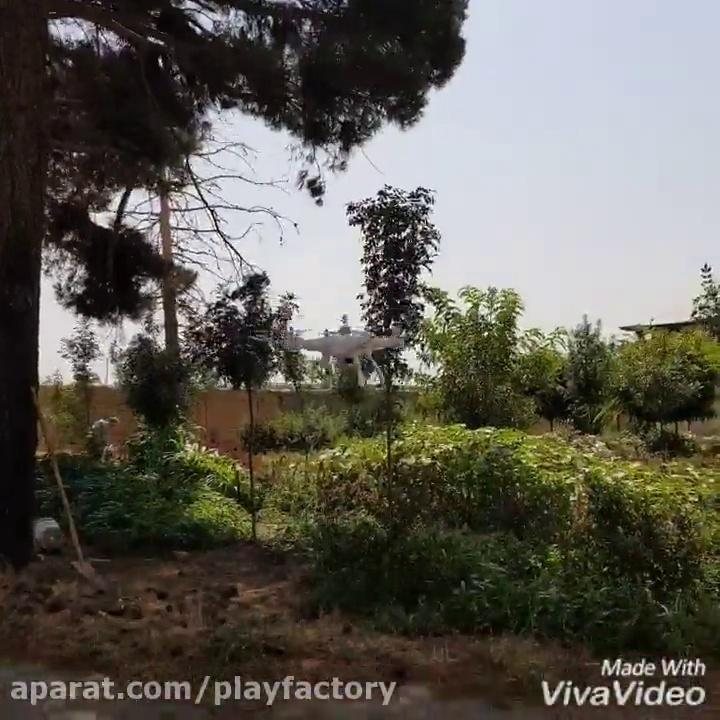drone: (256, 317, 413, 388)
